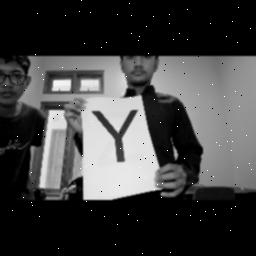y: (90, 108, 148, 164)
